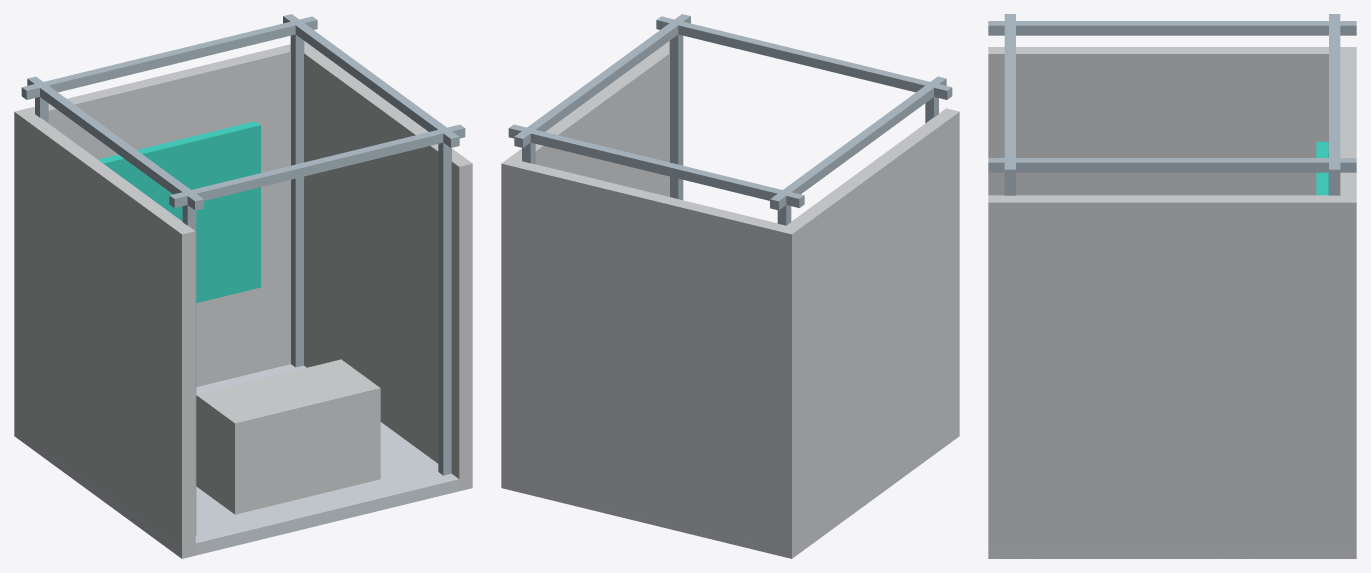
The picture shows the model from 3 angles, left to right: view 1: azimuth 30°, elevation 25°; view 2: azimuth 150°, elevation 25°; view 3: azimuth 270°, elevation 25°; orthographic projection. The views are drawn at different scales.
Parts seen in each view (by area): view 1: Exhibition Booth Concept; view 2: Exhibition Booth Concept; view 3: Exhibition Booth Concept.
Part boxes in pixels (x1=…): Exhibition Booth Concept: x1=14, y1=14, x2=472, y2=558; Exhibition Booth Concept: x1=501, y1=14, x2=959, y2=558; Exhibition Booth Concept: x1=988, y1=14, x2=1356, y2=558.
Size of the model in its own units: 3 by 3.49 by 3.
